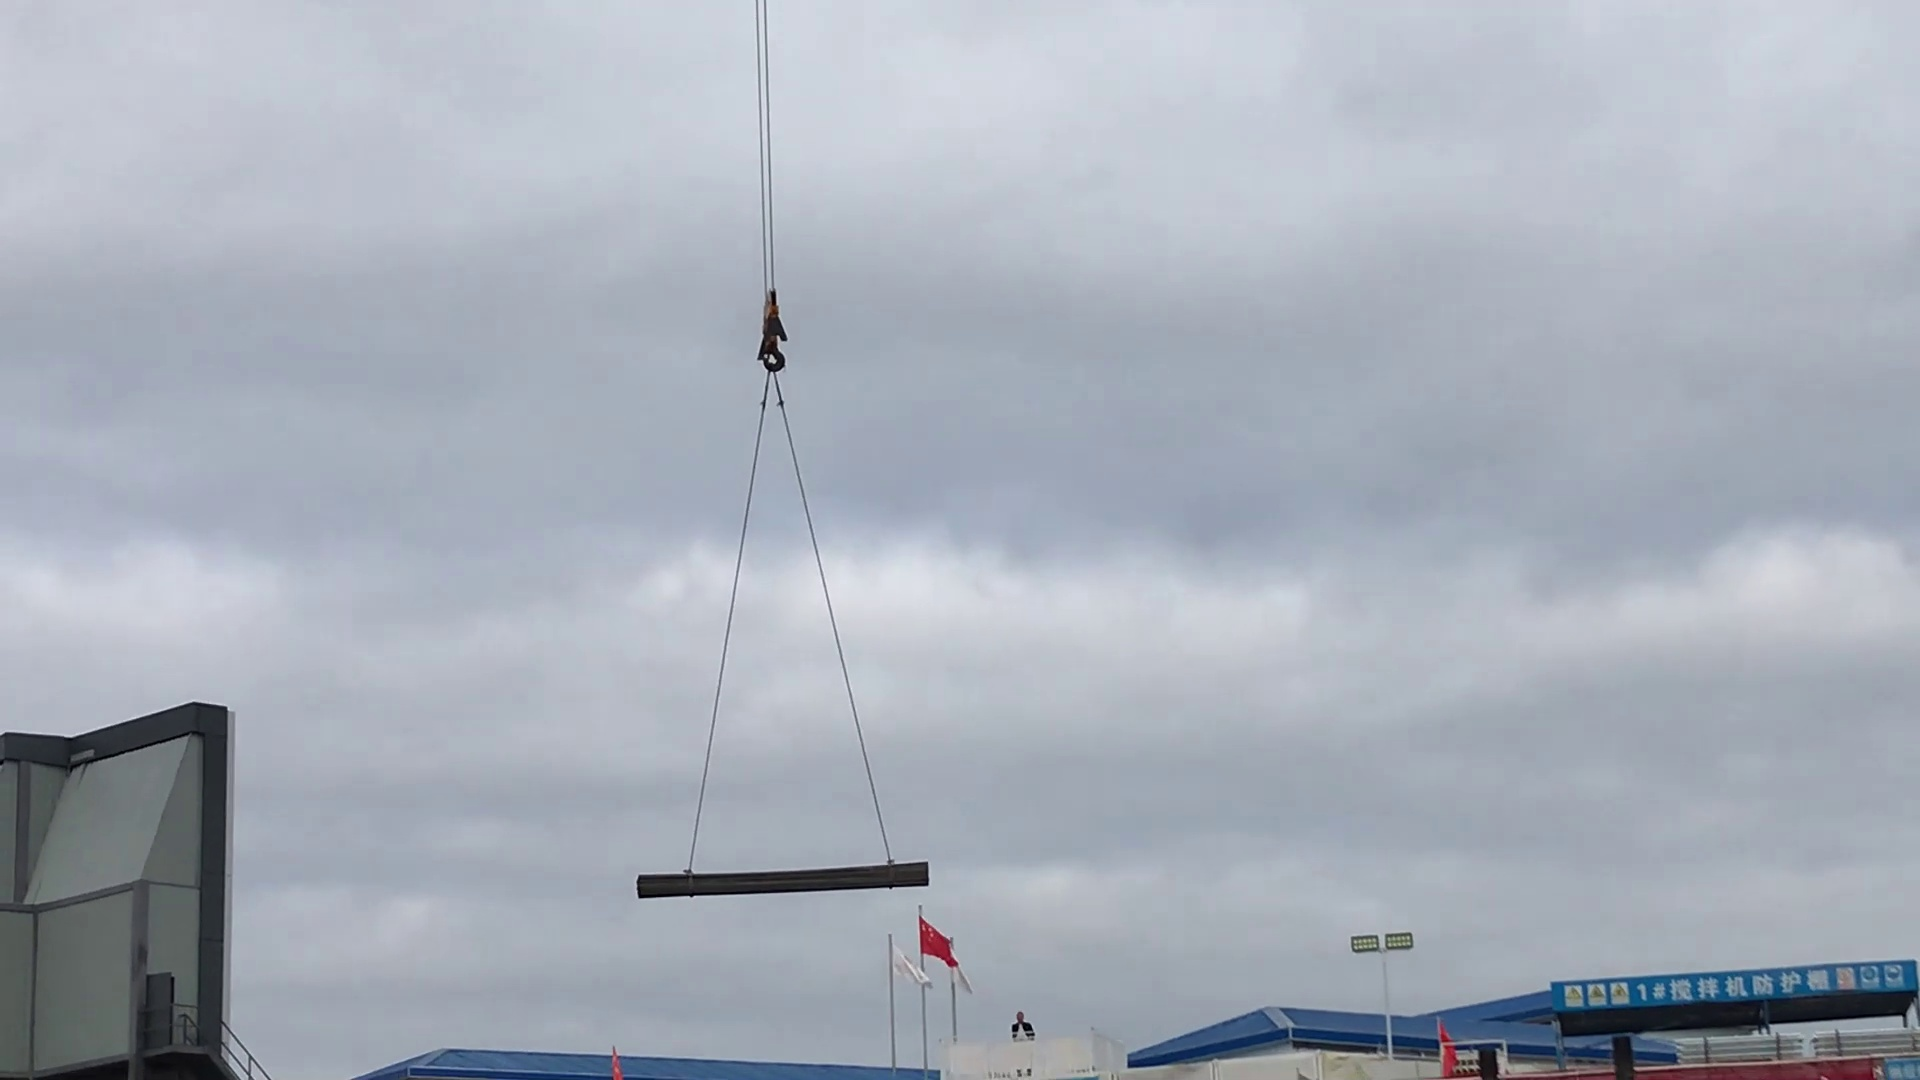hook: (746, 281, 800, 388)
rebar: (630, 855, 936, 903)
